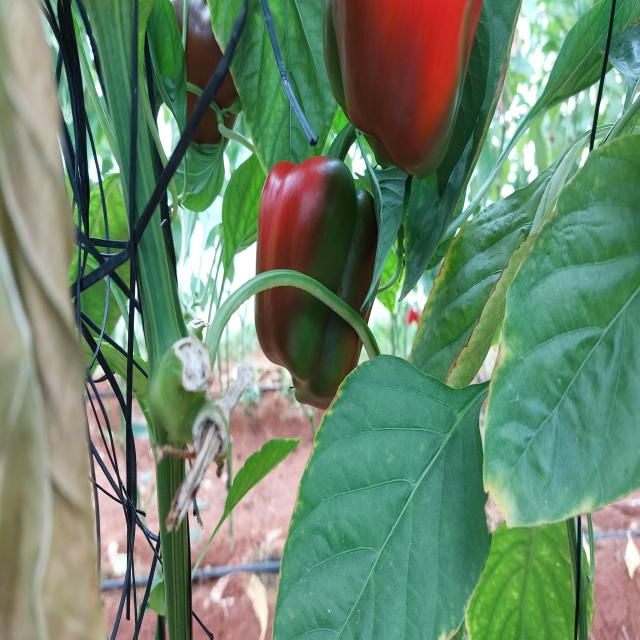BrownishRed--Can-be-Harvested: (266, 145, 379, 388), (335, 10, 480, 172)
